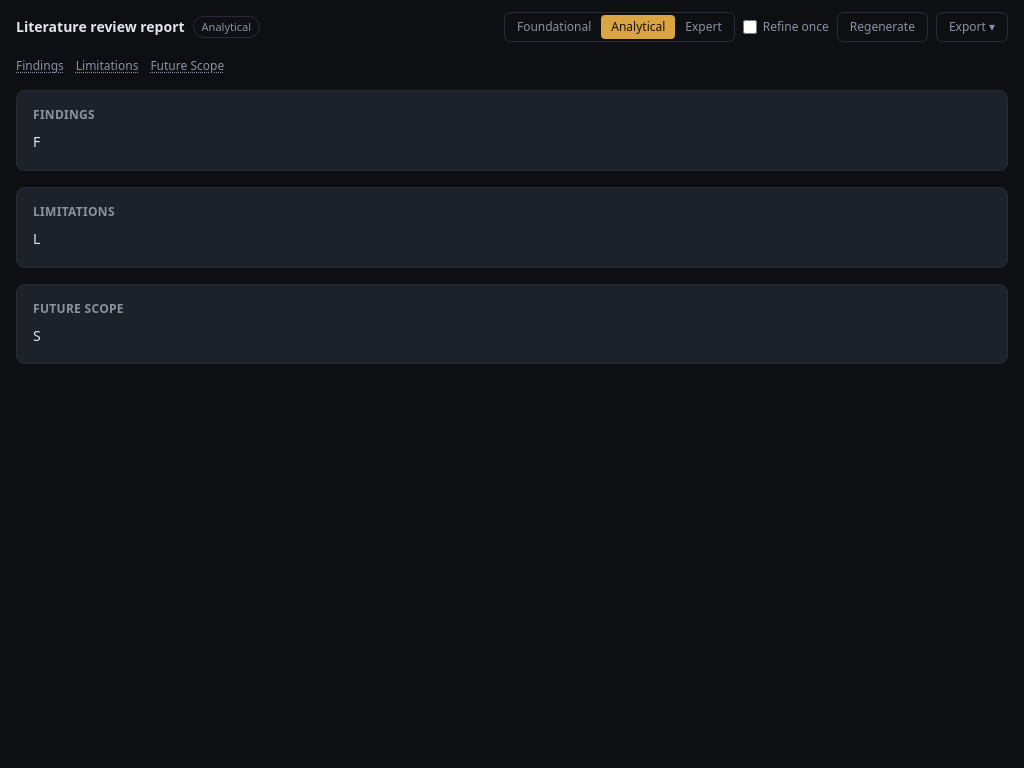
Test: ReportModePanel -- report-quality Phase R5C.3: Export menu › closes the menu on an outside click
Click the button with test id "export-menu-trigger" at [972, 27], box [936, 12, 1008, 42]
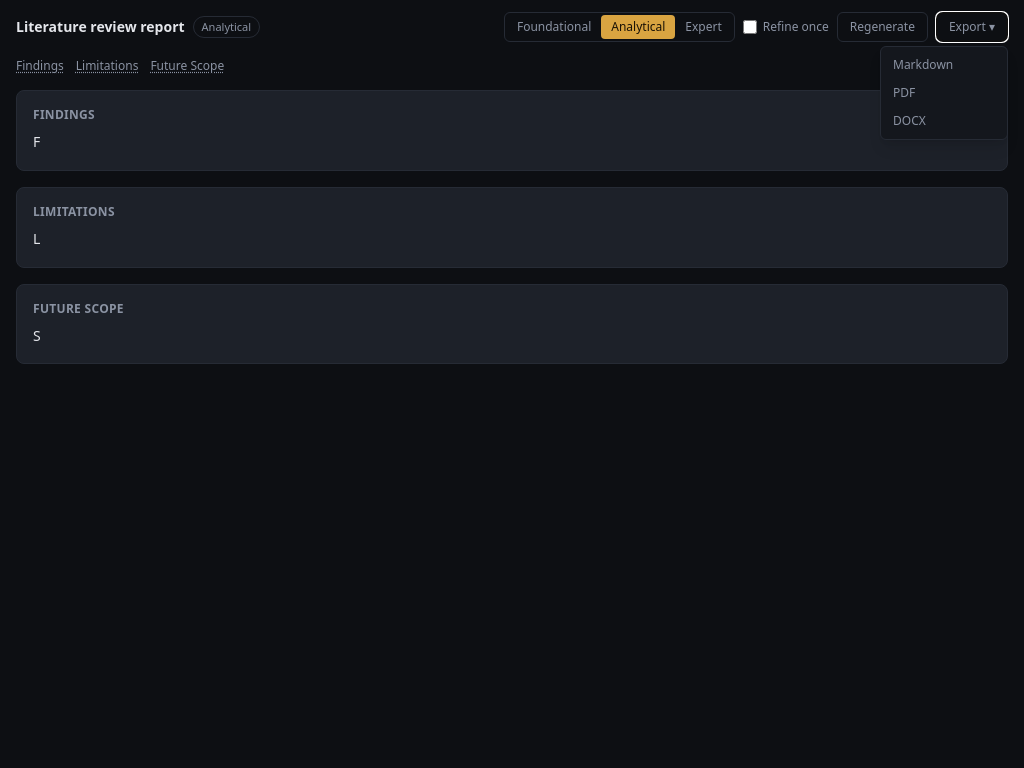
Check: the menu with test id "export-menu" is shown, box [880, 46, 1008, 140]
Click the element that starts with "Literature review report" at [512, 384], box [0, 0, 1023, 767]
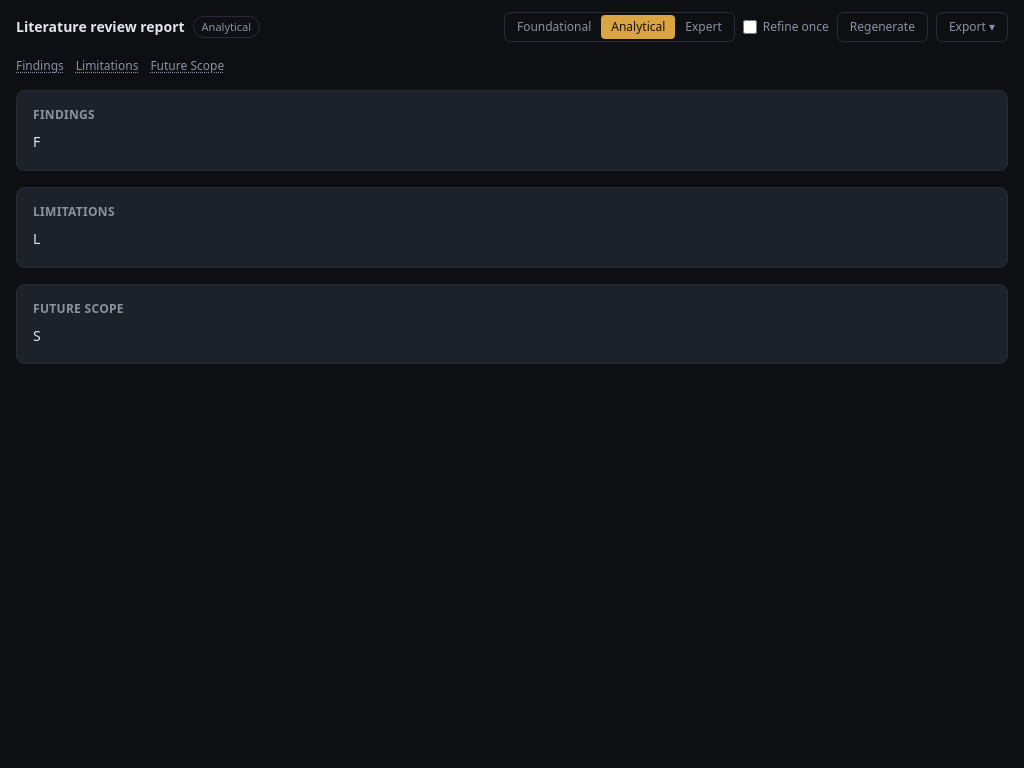
Check: the menu with test id "export-menu" is gone
